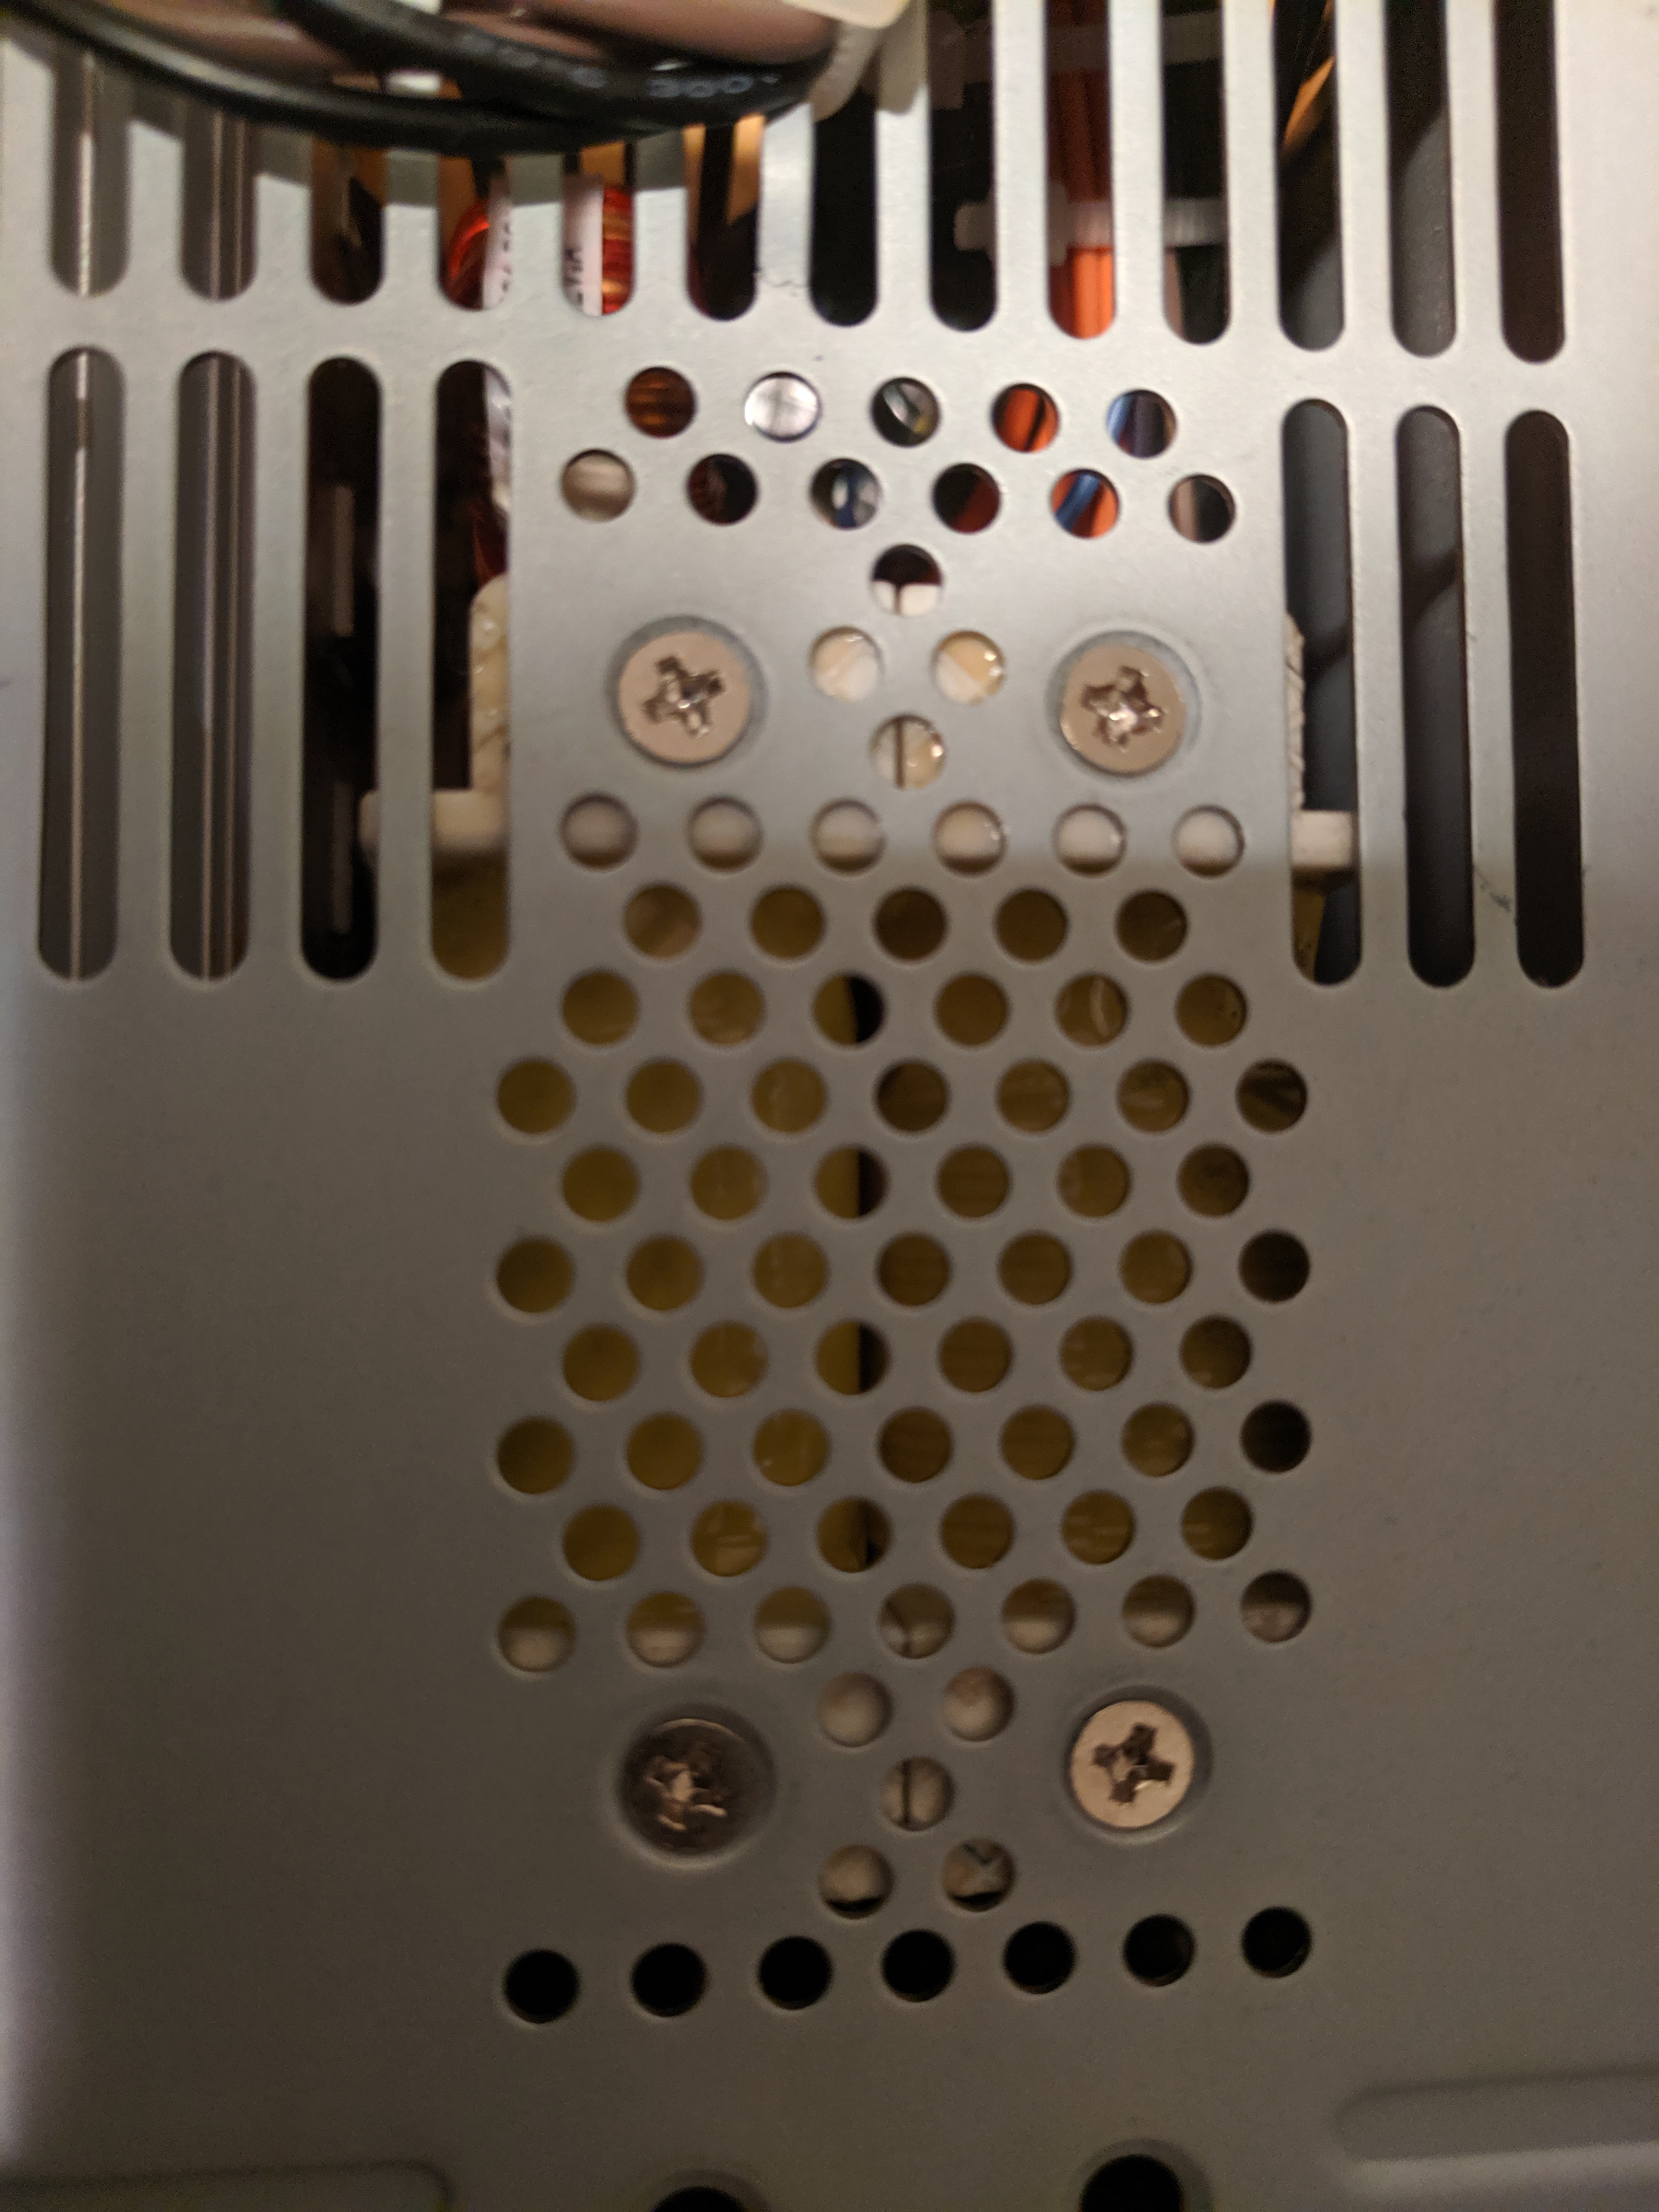cross_recessed_screw: (599, 1700, 775, 1864), (1053, 1688, 1211, 1834), (606, 613, 760, 763), (1049, 629, 1195, 782)
